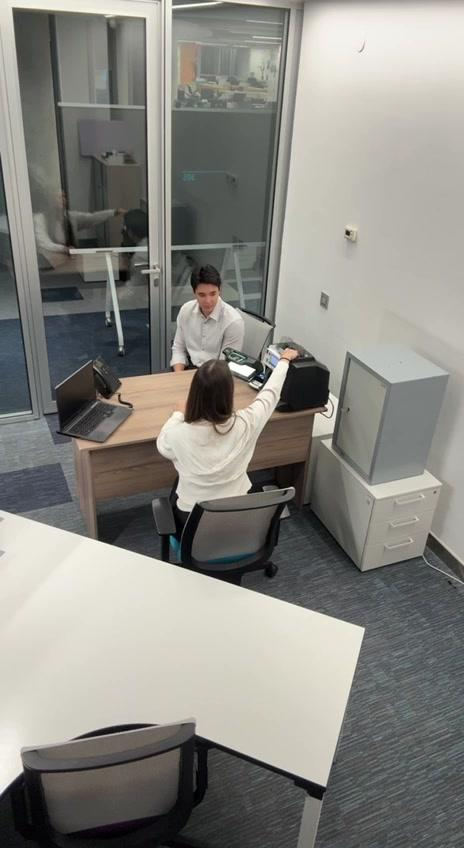counter: (262, 338, 331, 413)
uv_lamp: (222, 347, 265, 382)
